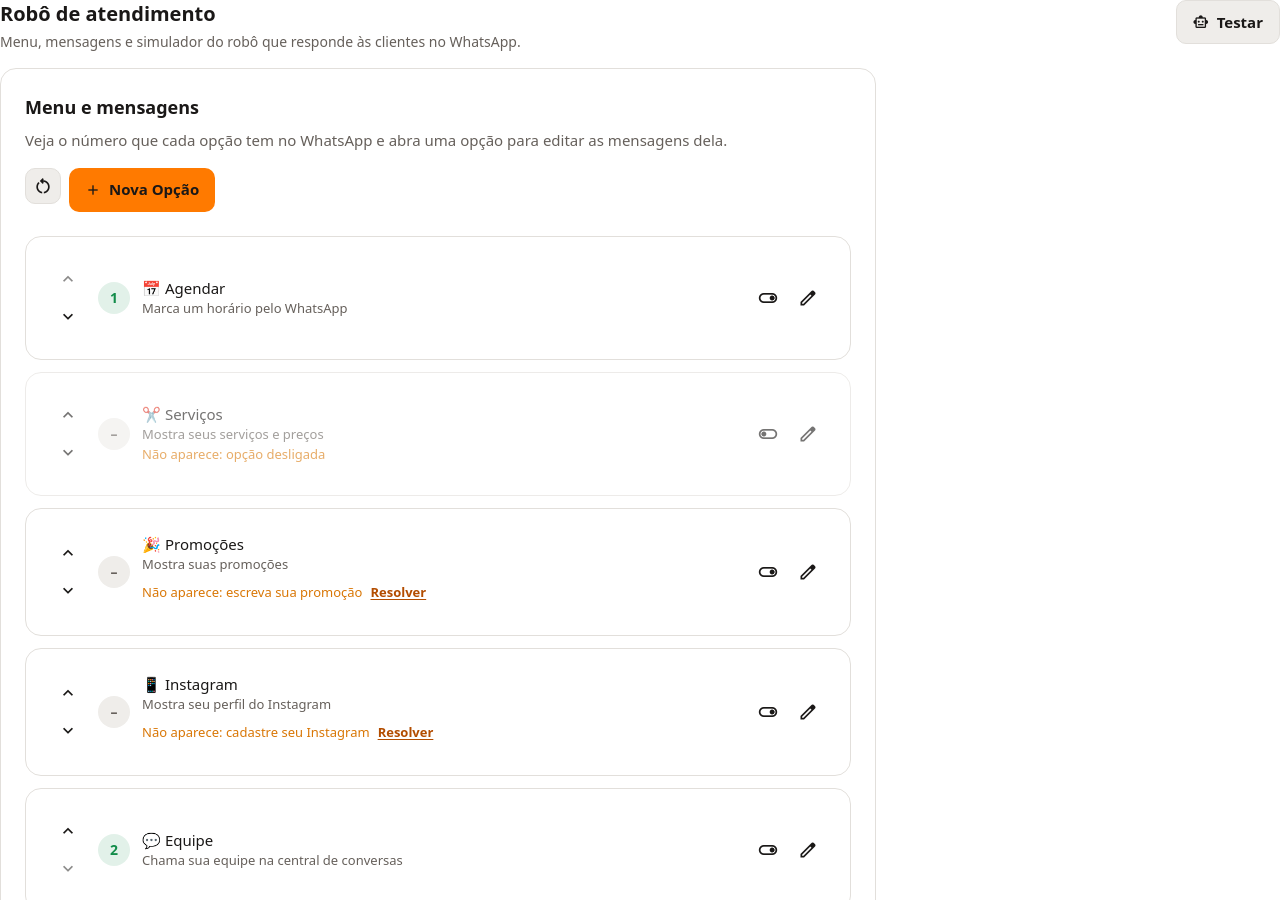
Test case: RoboAtendimento - menu e mensagens › apagar variável importante avisa mas deixa salvar, e só o campo alterado é enviado
Click the button named "Editar opção" in the row of "Marca um horário pelo WhatsApp" at coordinates (808, 298), box [790,280,826,316]
(page scrolled)
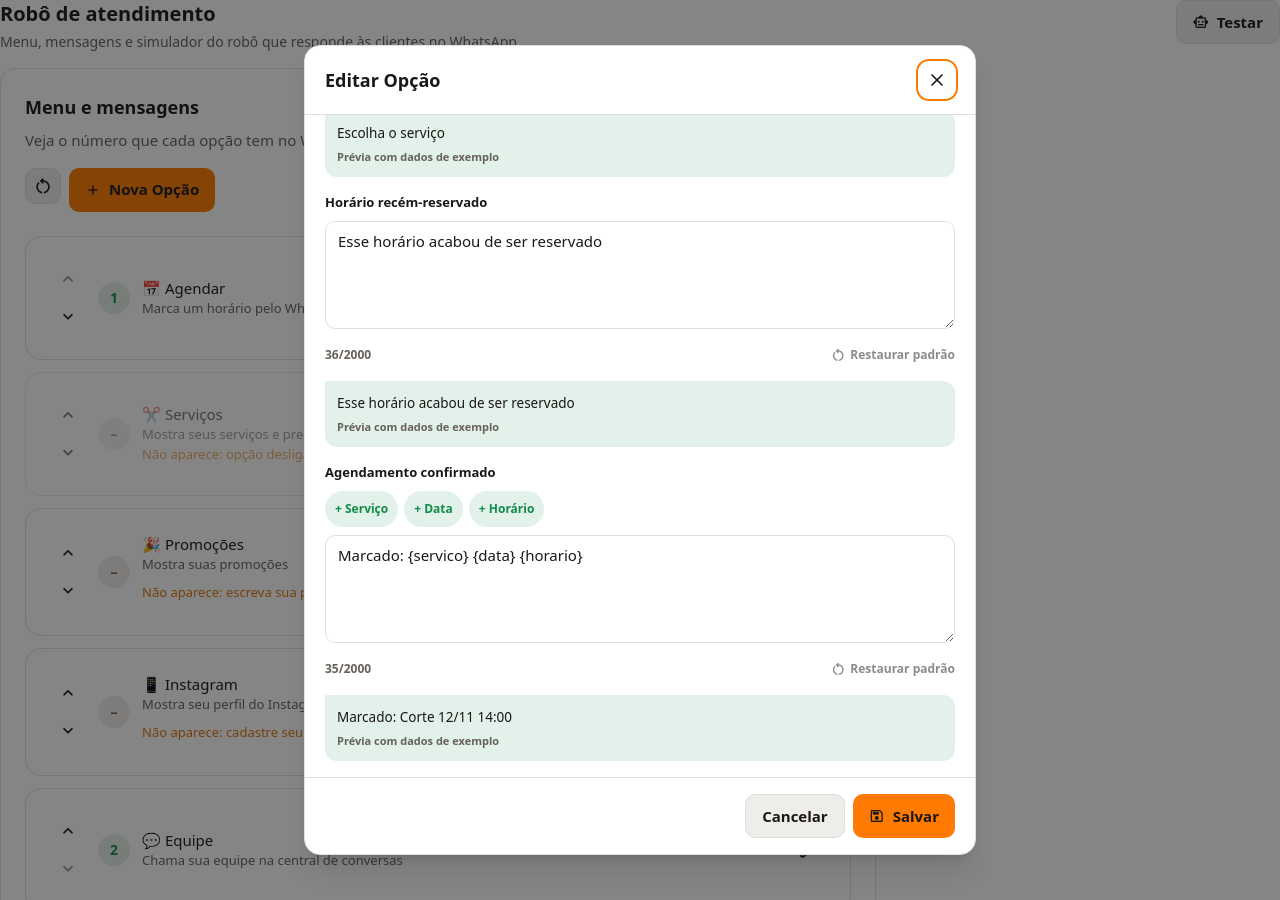
Clear the text box labelled "Agendamento confirmado" at coordinates (640, 589), box [325,535,955,643]
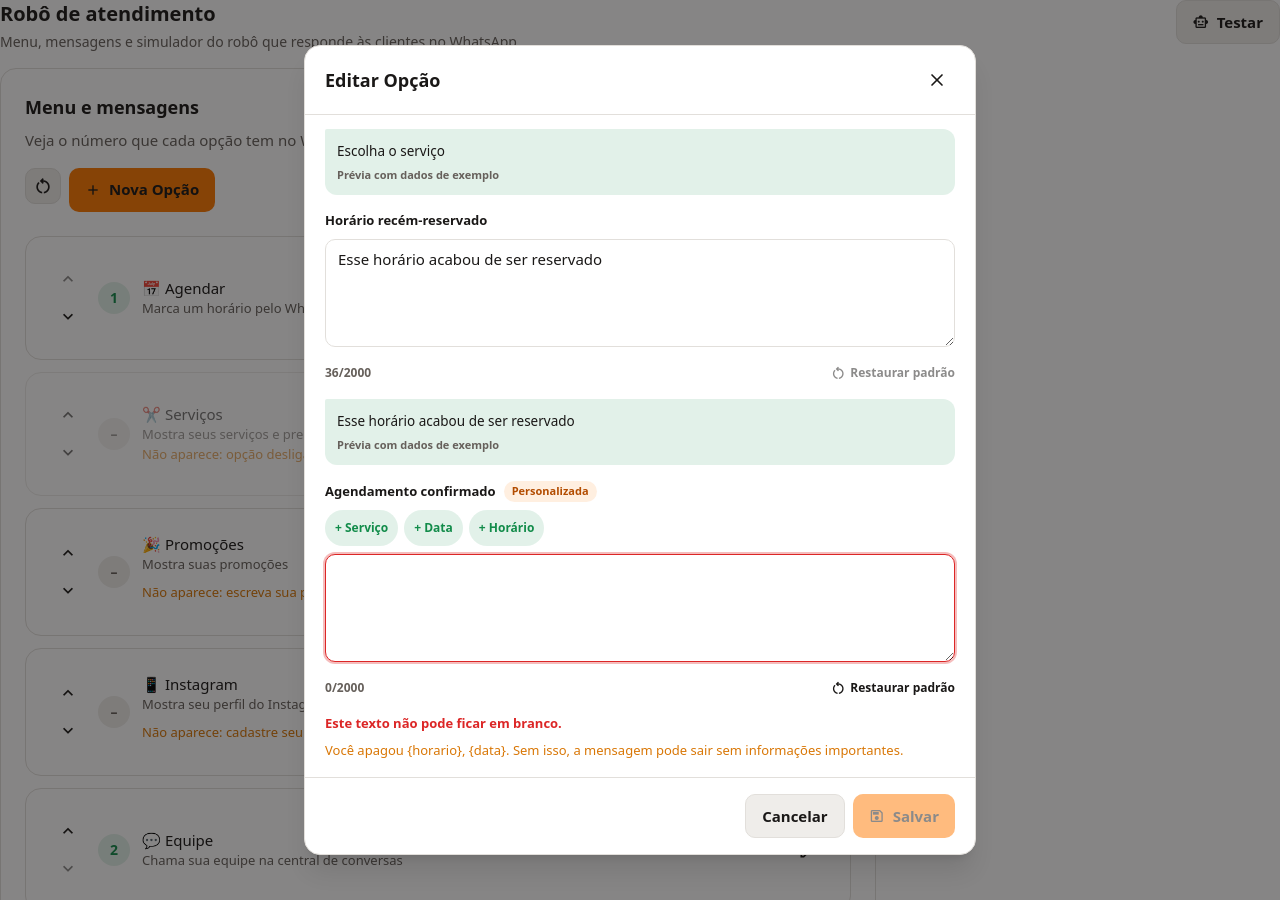
Type "Marcado: ok" into the text box labelled "Agendamento confirmado" at coordinates (640, 608), box [325,554,955,662]
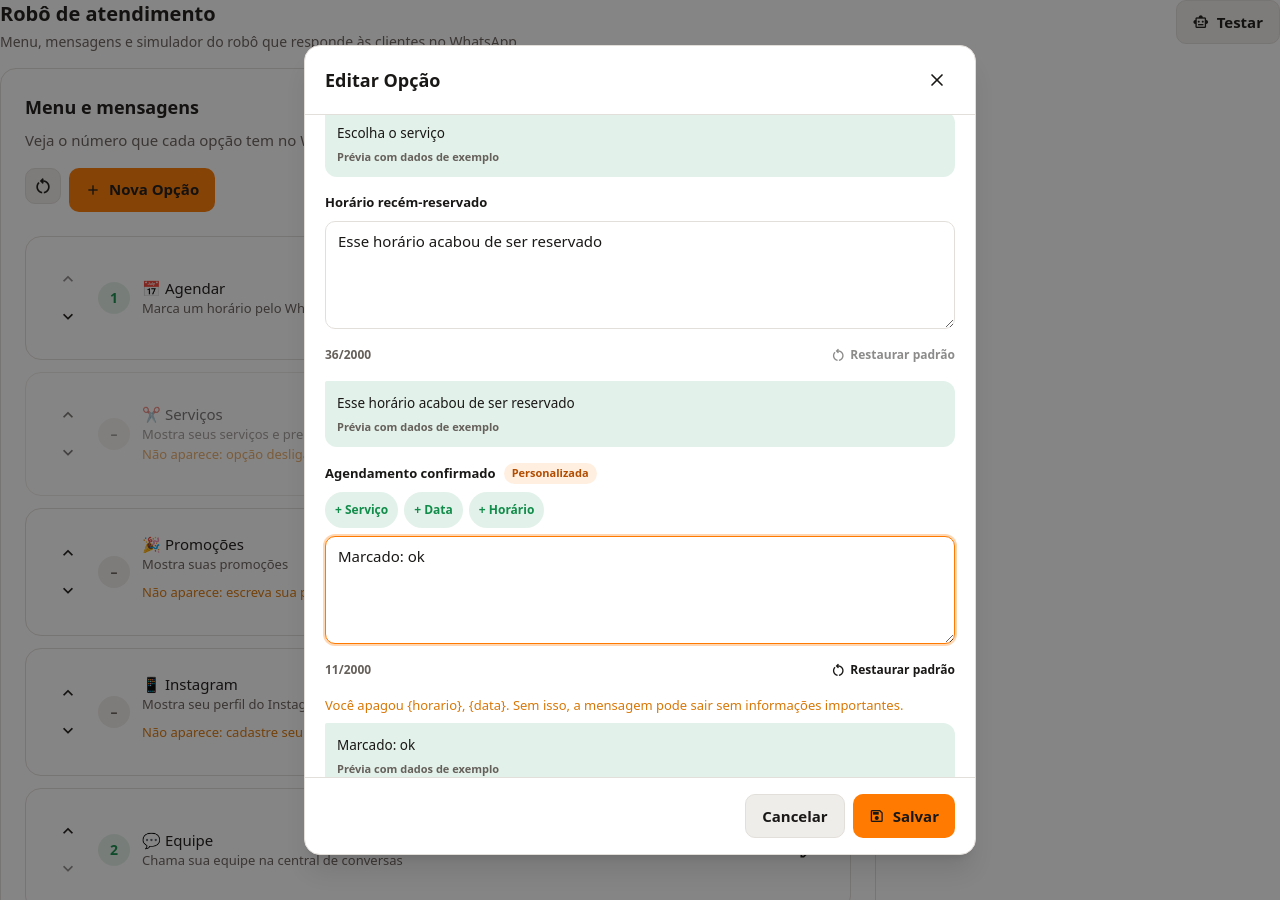
Now the text "Você apagou" shows "{horario}", box [407,696,506,714]
Now the button "Salvar" is enabled
Click the button "Salvar" at coordinates (904, 816), box [853,794,955,838]
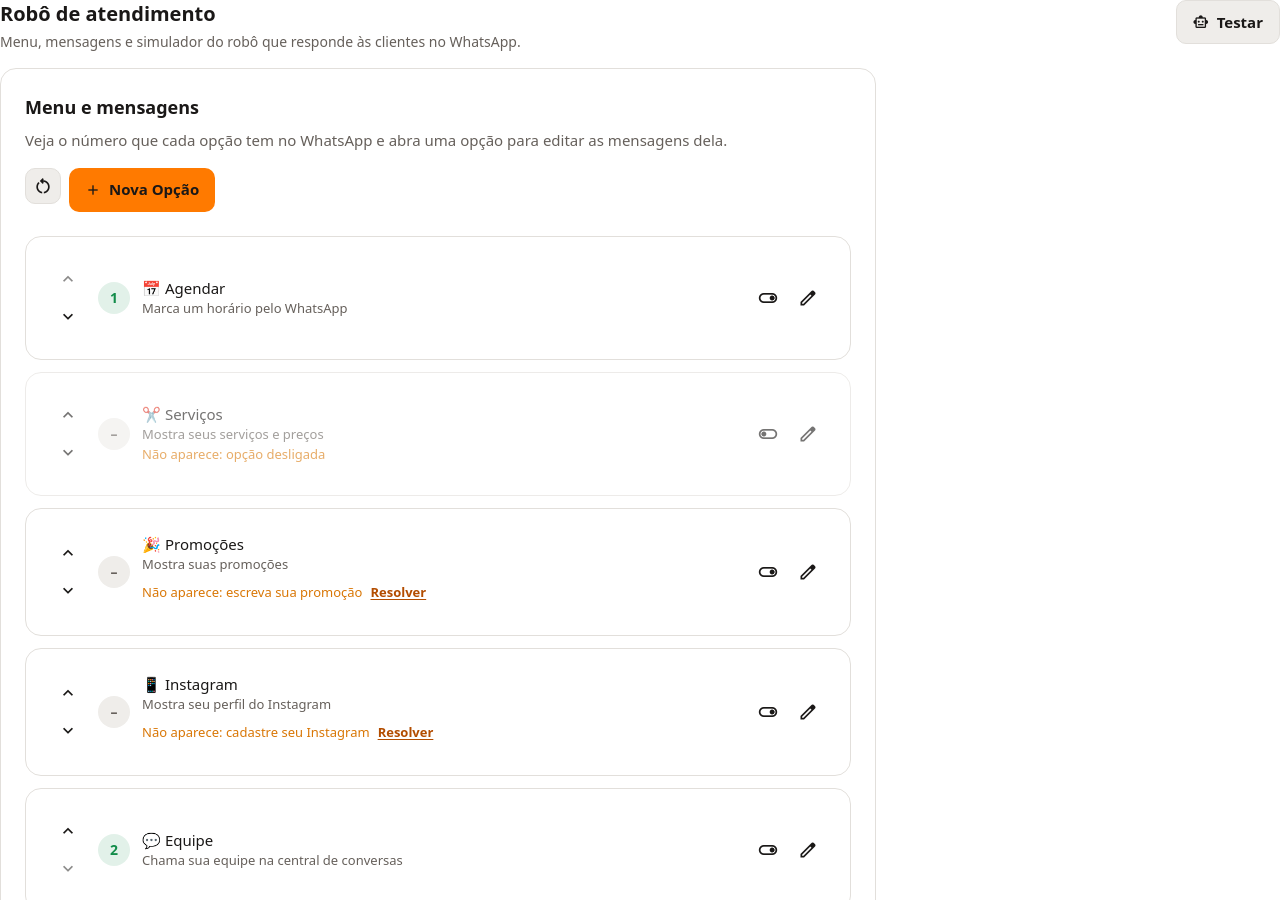
Now the dialog is gone
